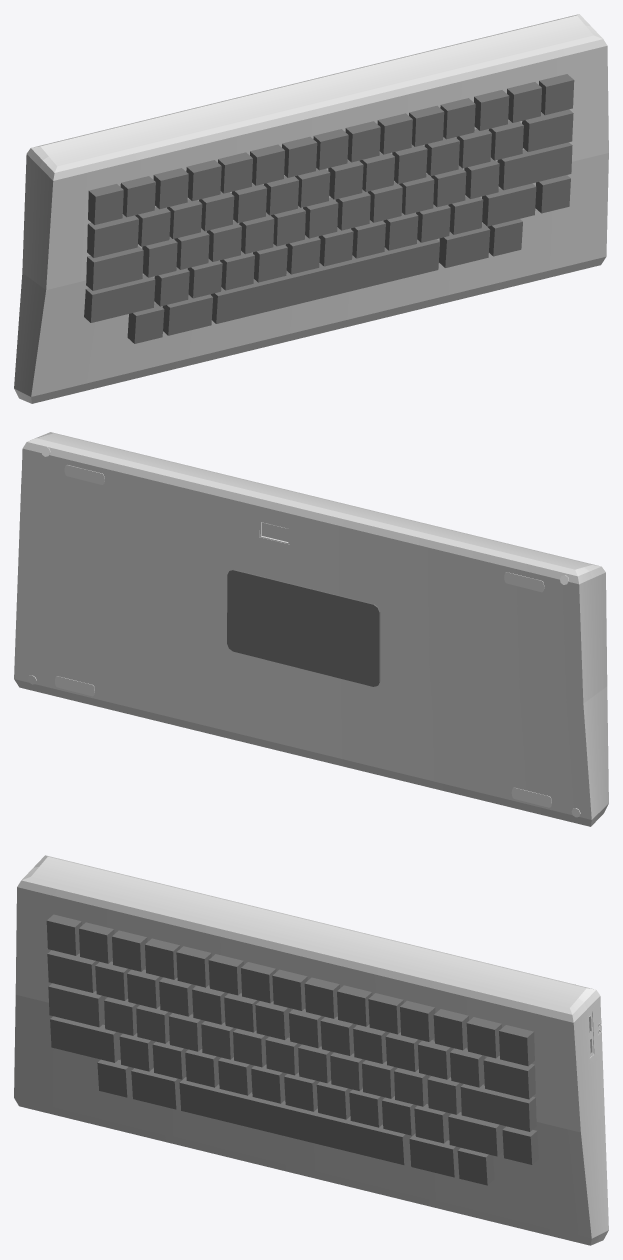
Rendered from SM_Int_Keyboard.fbx.
3 views of the same model, one above another, from view 1: azimuth 30°, elevation 25°; view 2: azimuth 150°, elevation 25°; view 3: azimuth 330°, elevation 25° (orthographic).
Parts seen in each view (by area): view 1: SM_Int_Keyboard; view 2: SM_Int_Keyboard; view 3: SM_Int_Keyboard.
Boxes of the visible parts, x1,y1,x2,y2 form: SM_Int_Keyboard: [14, 14, 608, 403]; SM_Int_Keyboard: [14, 432, 608, 826]; SM_Int_Keyboard: [14, 855, 608, 1245].
Size of the model in its own units: 304 by 126 by 31.17.
